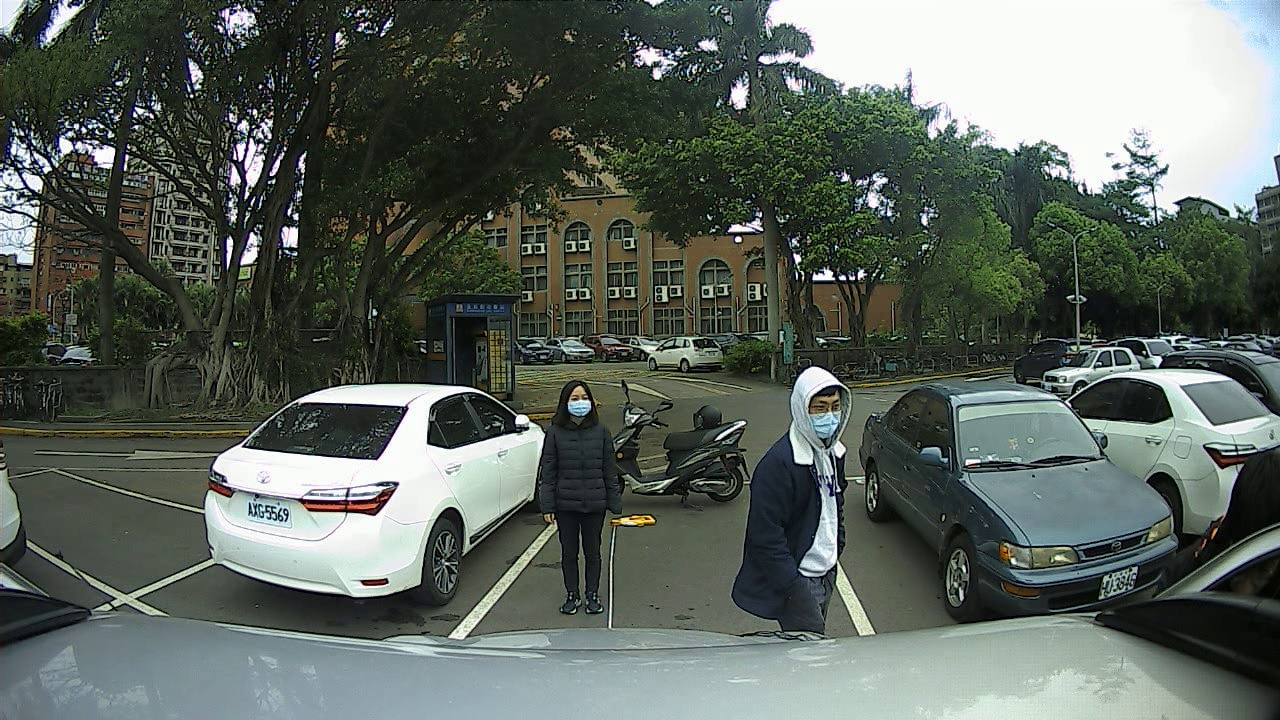car: (196, 372, 550, 612), (853, 367, 1180, 623), (1074, 347, 1277, 521)
motorcycle: (591, 390, 764, 510)
person: (751, 360, 875, 651), (531, 372, 636, 629)
